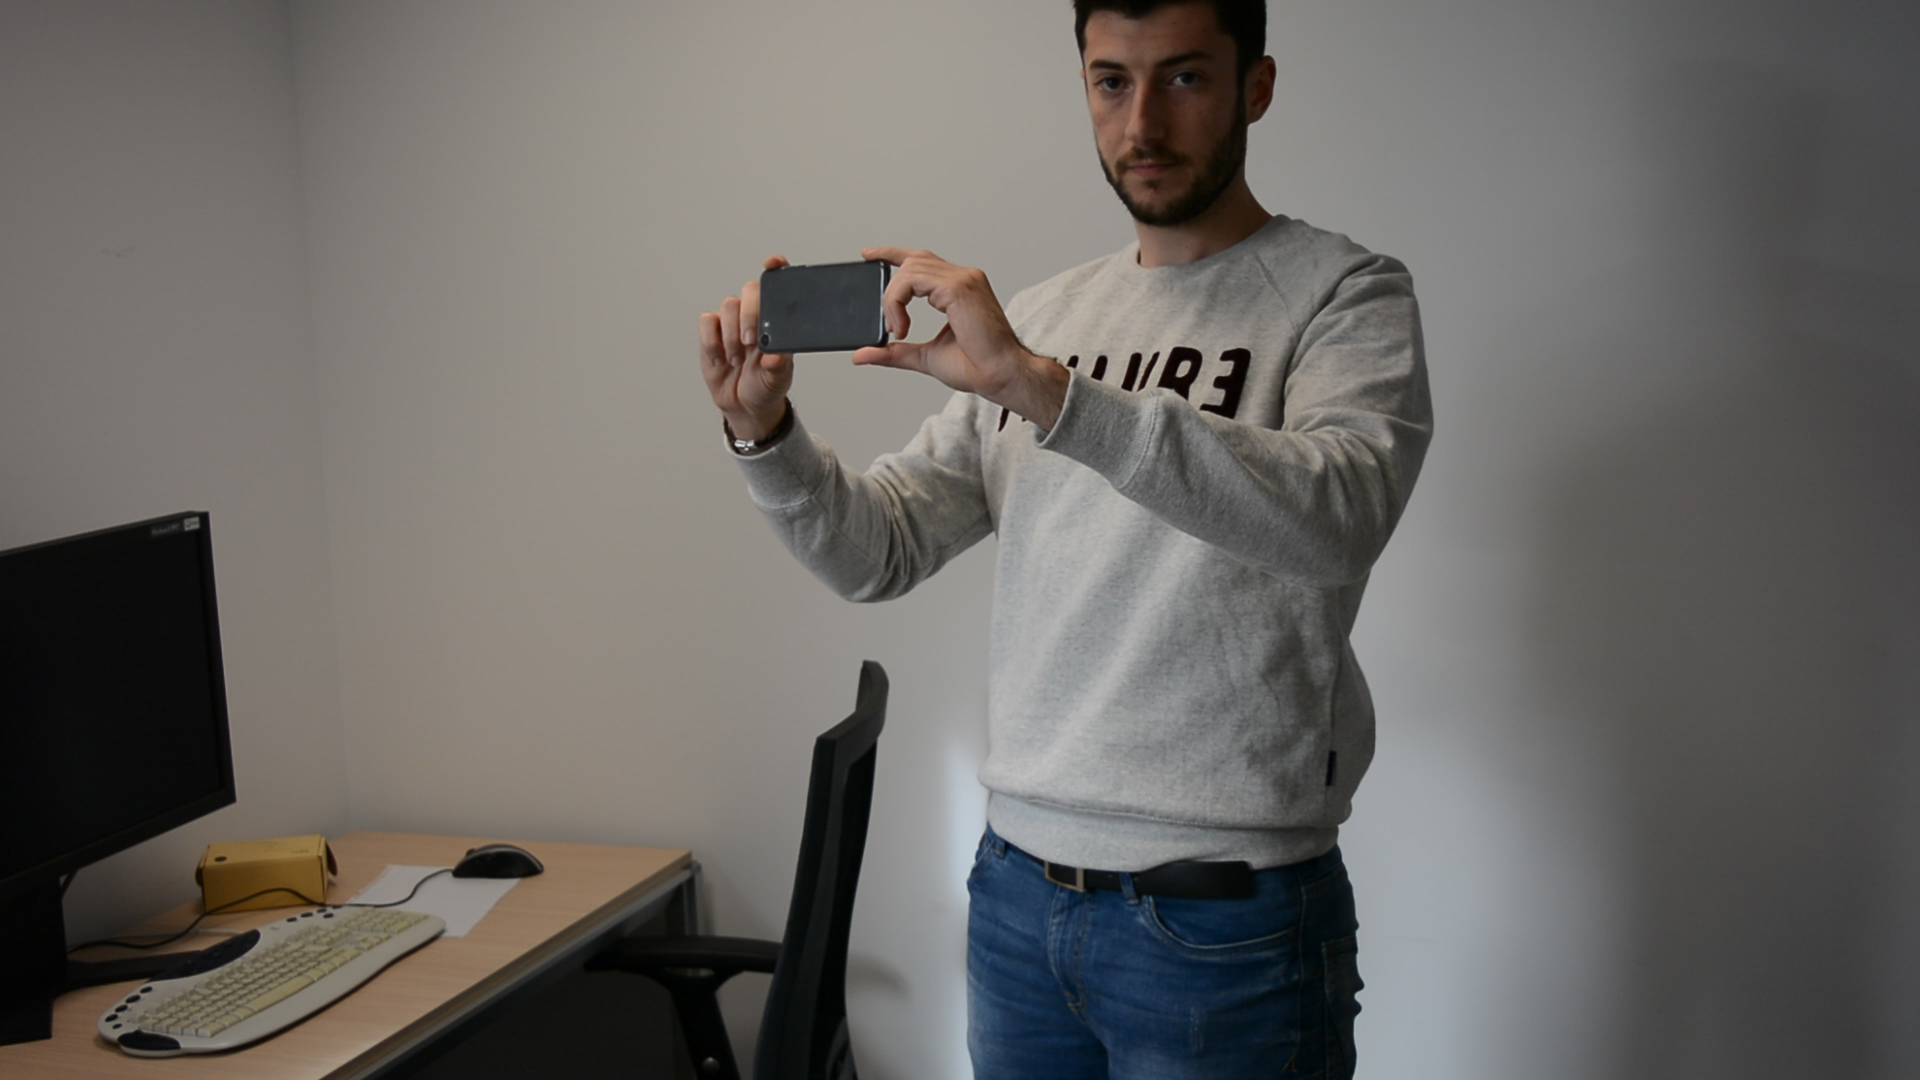smartphone: (756, 258, 891, 355)
